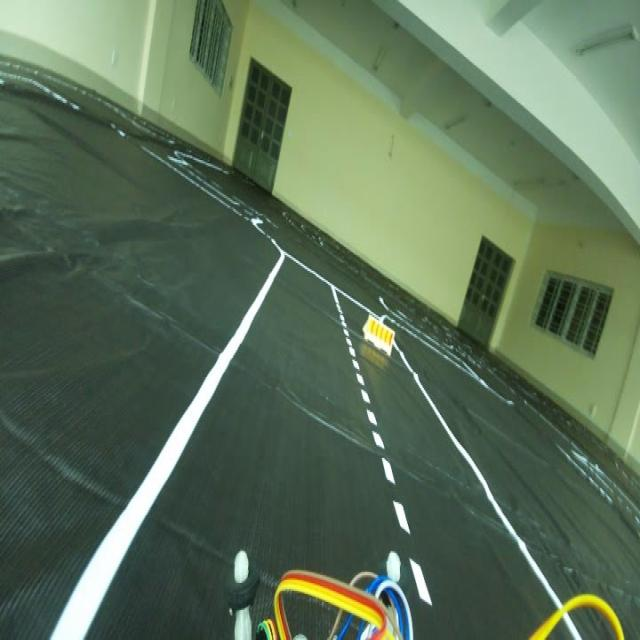roadblock: (360, 306, 404, 372)
